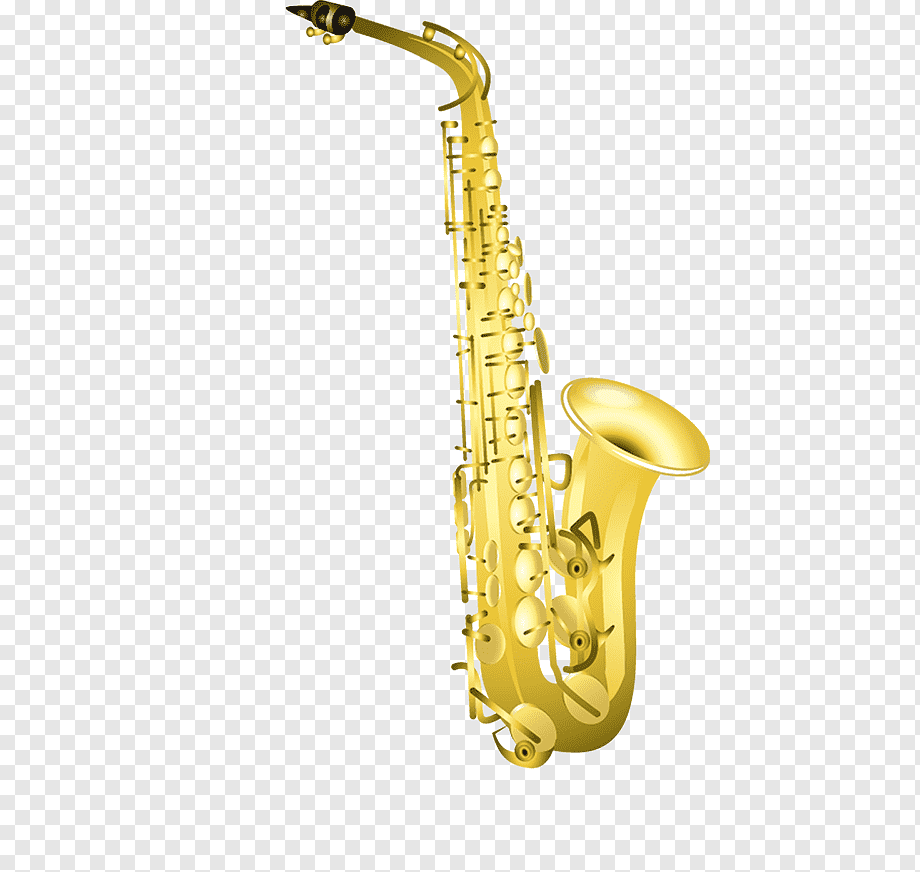Saxophone: (160, 1, 752, 835)
